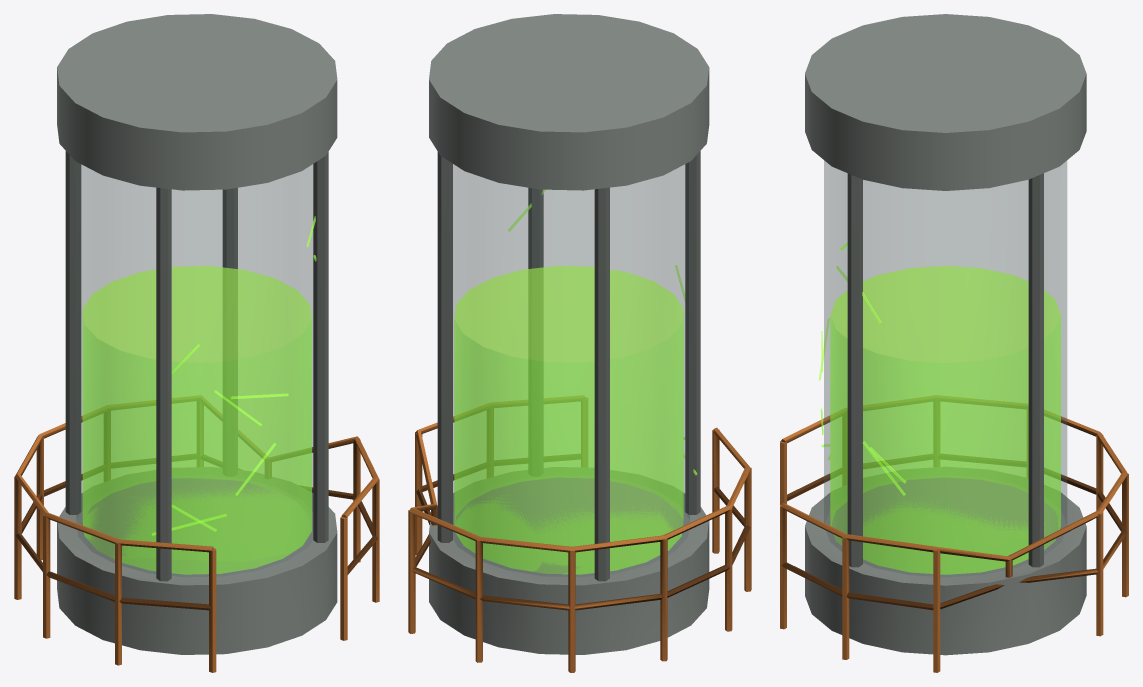
Rendered from big_tank_cracked.glb.
The picture shows the model from 3 angles, left to right: view 1: azimuth 30°, elevation 25°; view 2: azimuth 150°, elevation 25°; view 3: azimuth 270°, elevation 25°; orthographic projection.
Visible parts, largest first — view 1: BigTankCracked; view 2: BigTankCracked; view 3: BigTankCracked.
Boxes of the visible parts, bbox=[...] form: BigTankCracked: bbox=[14, 14, 379, 672]; BigTankCracked: bbox=[408, 14, 751, 672]; BigTankCracked: bbox=[780, 14, 1128, 672].
Bounding box in the file's own units: 2.85 × 4.5 × 2.72.
